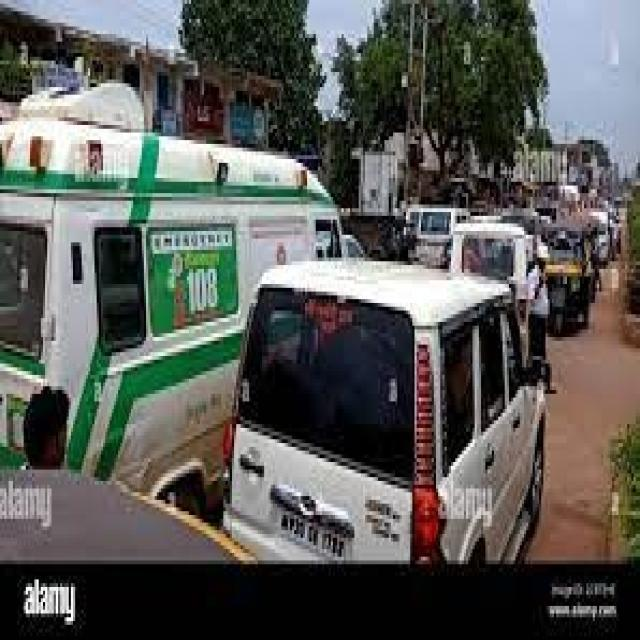ambulance: (0, 97, 238, 476)
